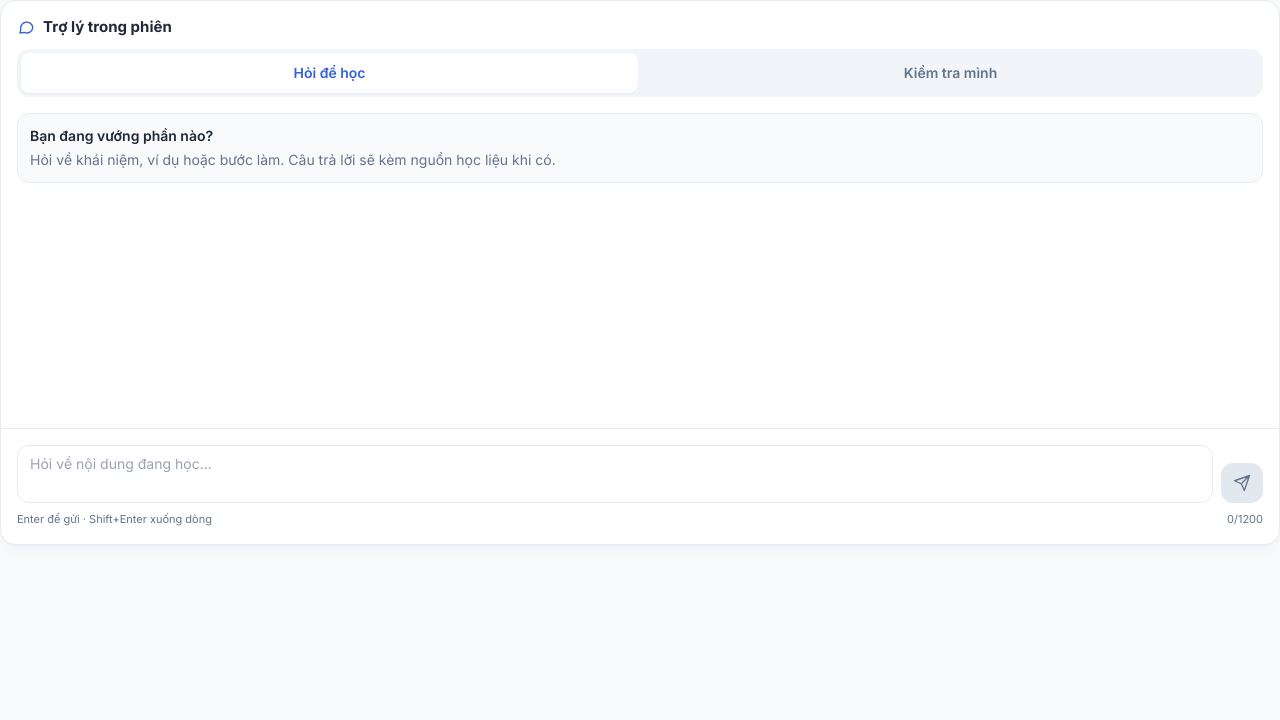
Test: DoSessionAssistant › sends on Enter with the current course and block scope, then shows citations
Type "Tính bắc cầu là gì?" into the text box with placeholder "Hỏi về nội dung đang học…" at (615, 474), box x1=17 y1=445 x2=1213 y2=503
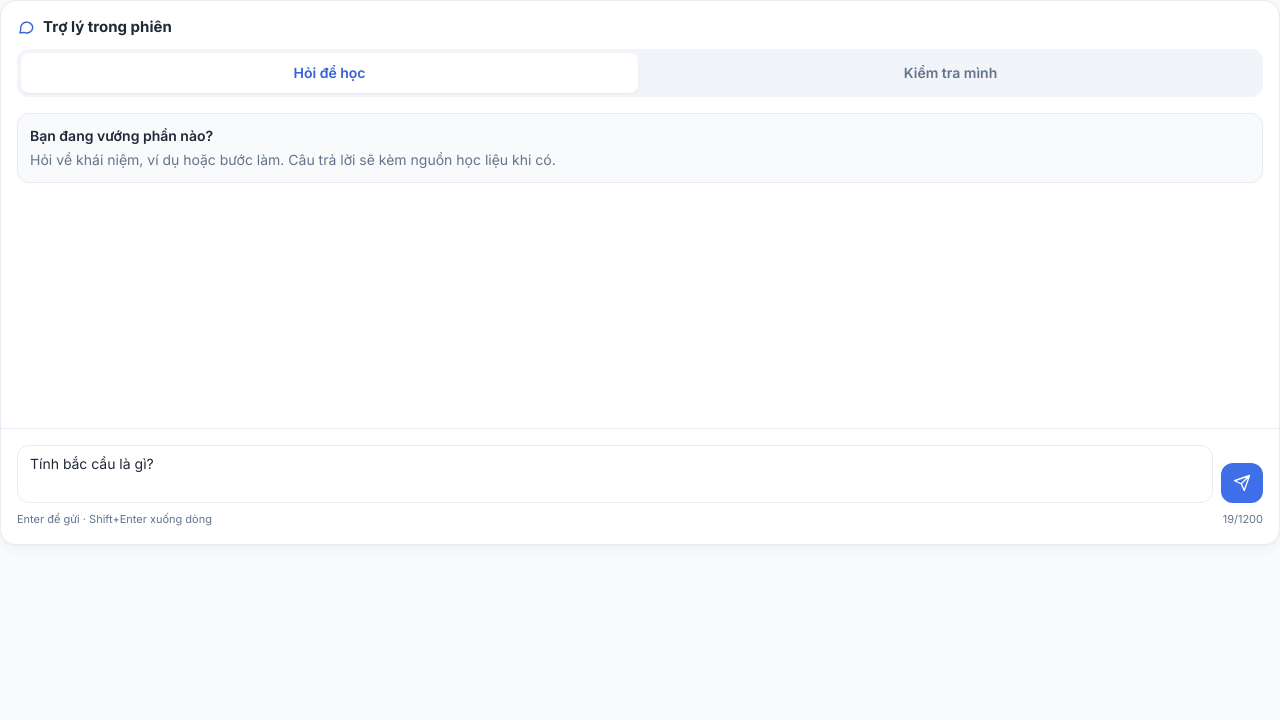
Press Enter in the text box with placeholder "Hỏi về nội dung đang học…", box x1=17 y1=445 x2=1213 y2=503
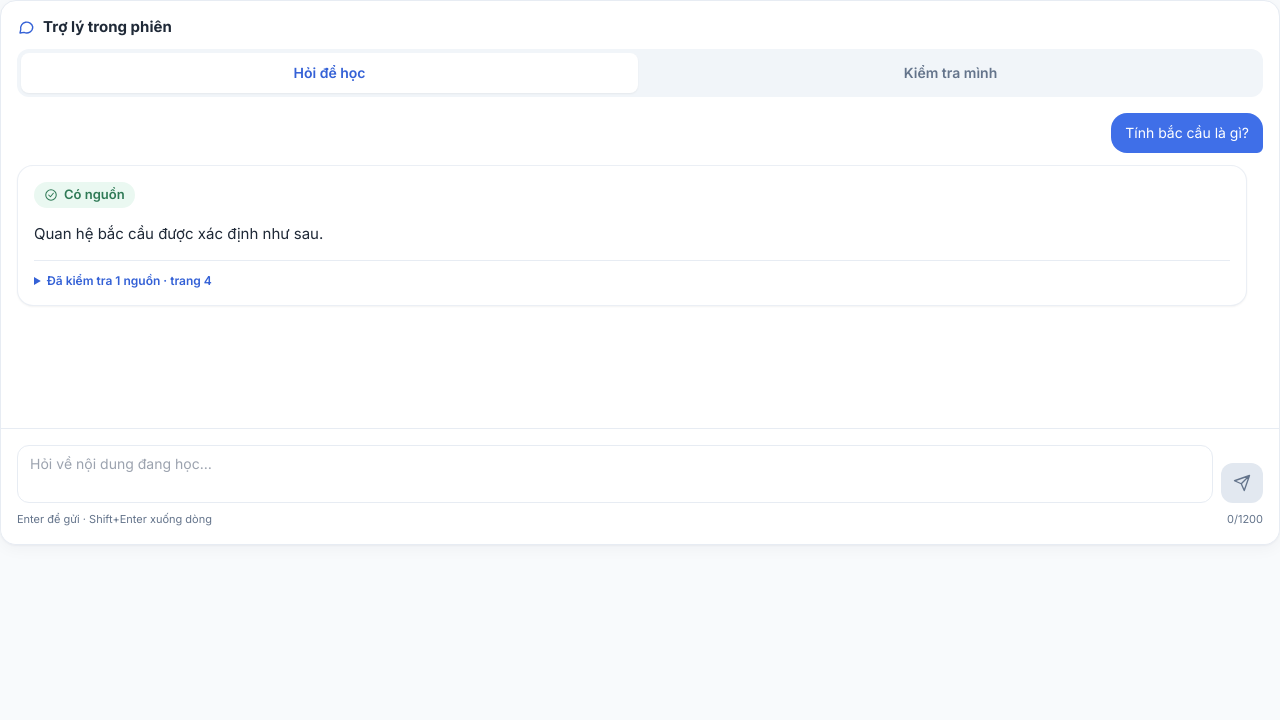
Result: the text "Quan hệ bắc cầu được xác định như sau." is shown at x1=34 y1=224 x2=323 y2=242
Result: the heading "Đã kiểm tra 1 nguồn · trang 4" is shown at x1=47 y1=272 x2=212 y2=288
